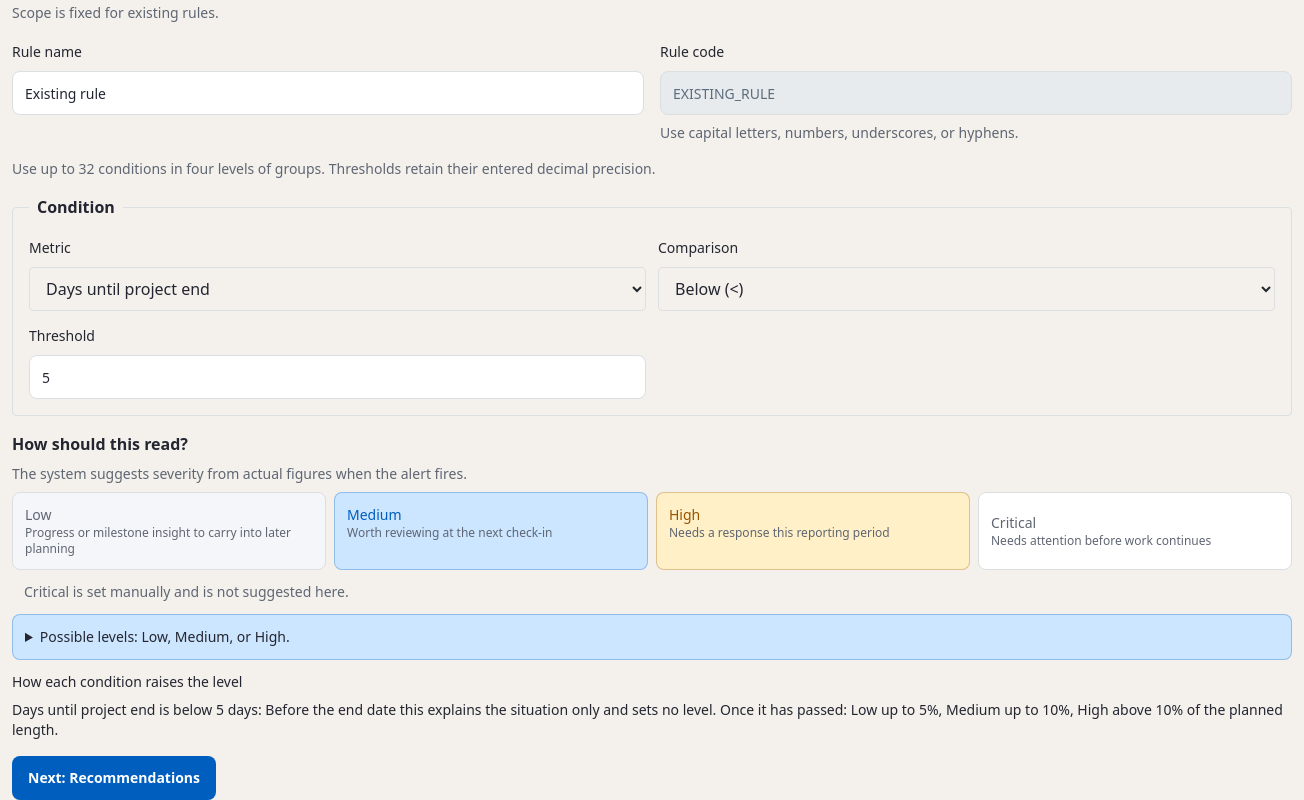
Scenario: two-step rule editor navigation › opens an existing draft with step 1 and step 2 both prefilled
The image size is (1304, 800).
(page scrolled)
Expected: the field labelled "Rule name" holds "Existing rule", [12,71,644,115]
Expected: the field labelled "Rule code" holds "EXISTING_RULE", [660,71,1292,115]
Step 1. Click the button "Next: Recommendations" → (114, 778), box [12,756,216,799]
(page scrolled)
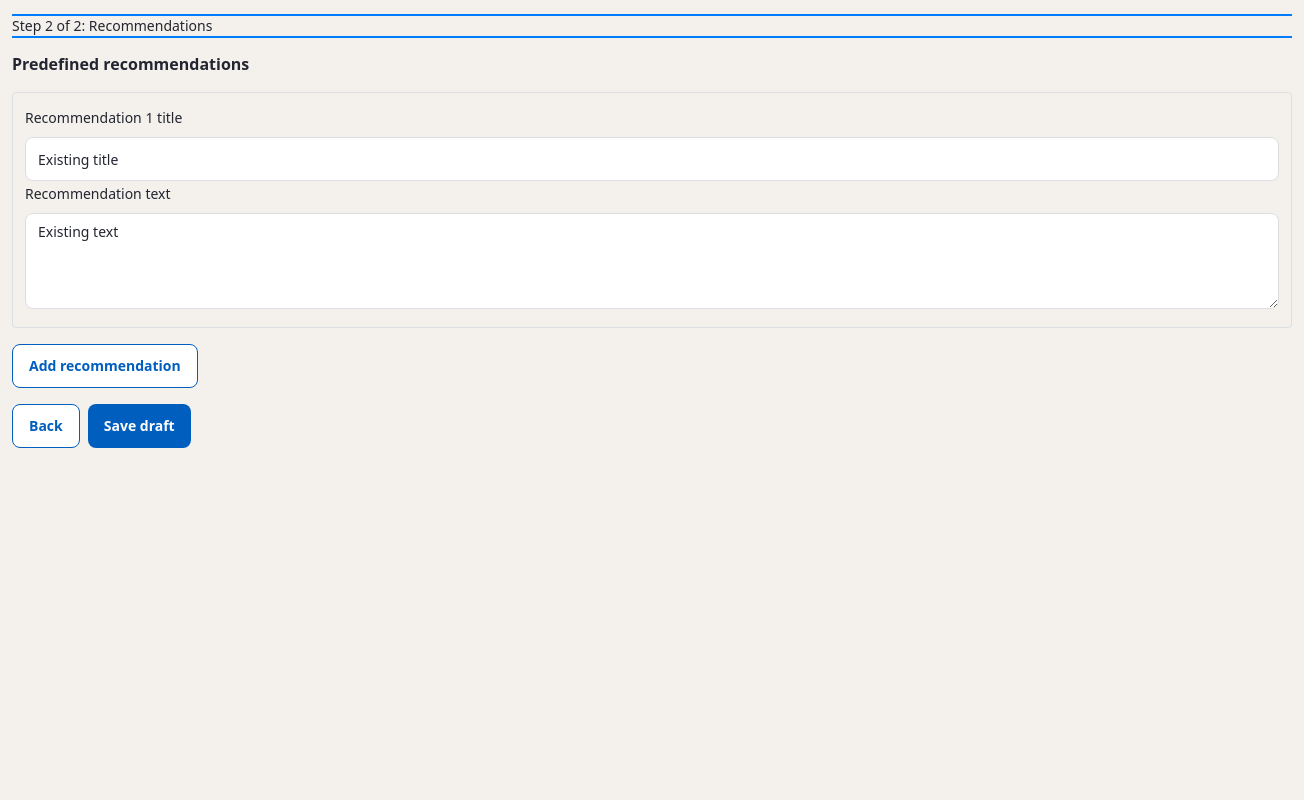
Expected: the field labelled "Recommendation 1 title" holds "Existing title", [25,137,1279,181]
Expected: the text box labelled "Recommendation text" holds "Existing text", [25,213,1279,309]
